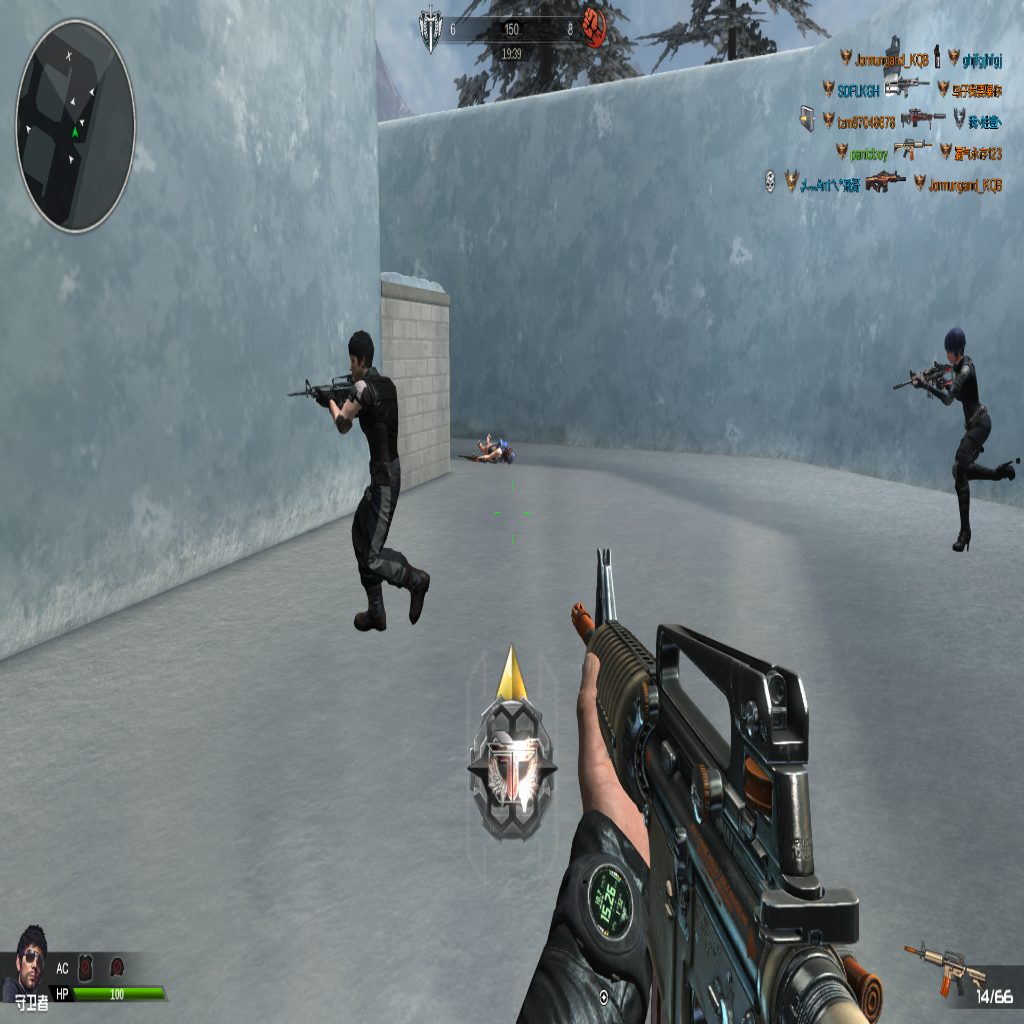ct: (303, 330, 432, 645), (927, 324, 1007, 562)
